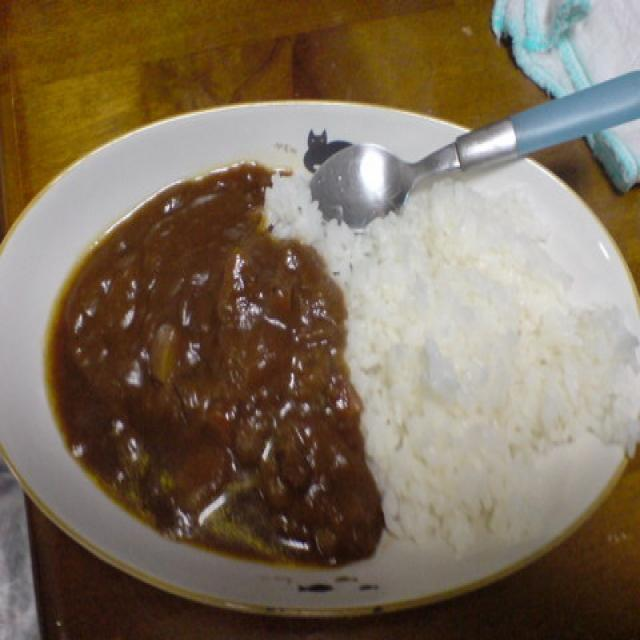Beef Curry: (50, 146, 362, 556)
